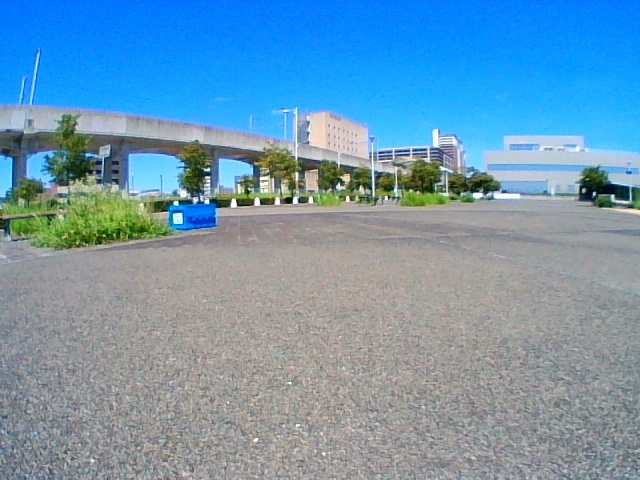blue_box: (170, 205, 215, 229)
tag: (173, 211, 182, 223)
